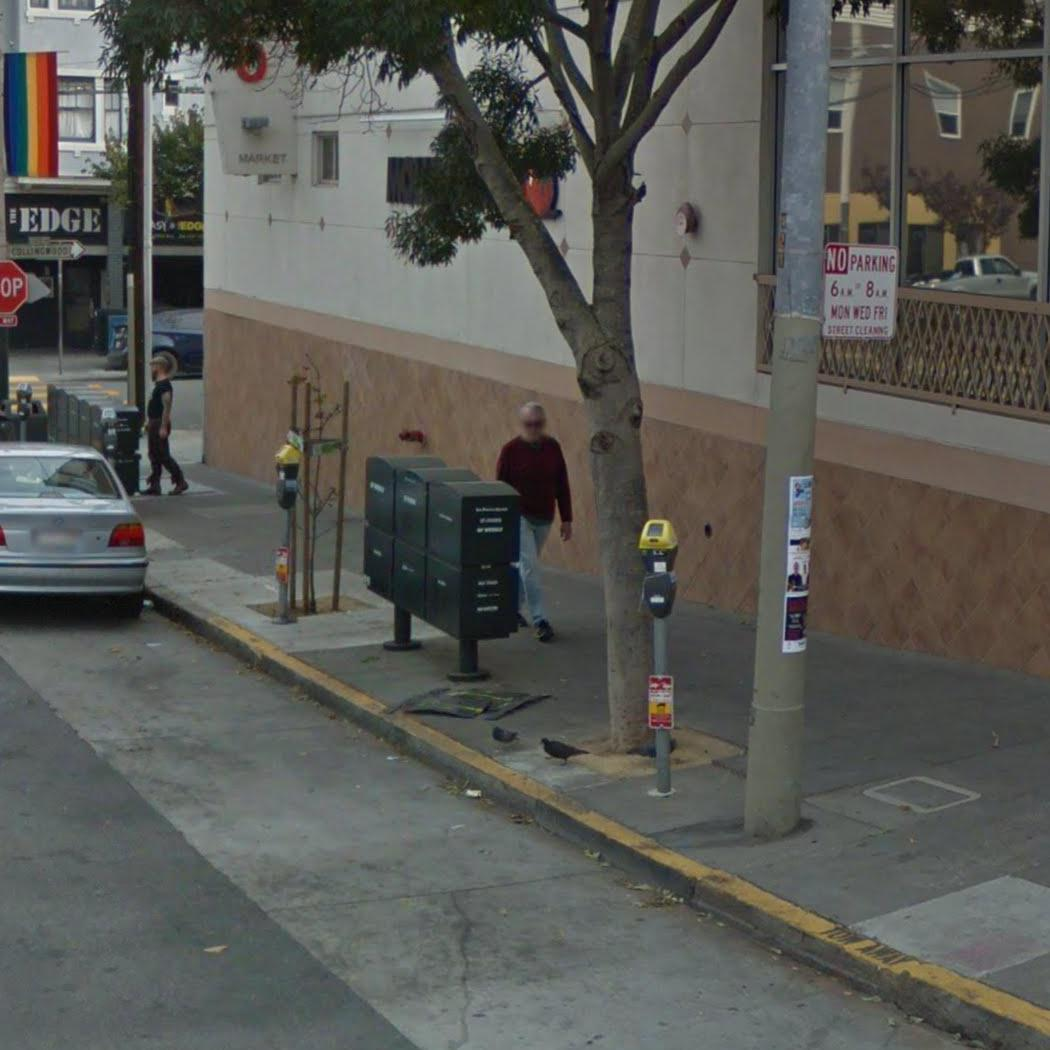No Parking: (825, 241, 897, 338)
